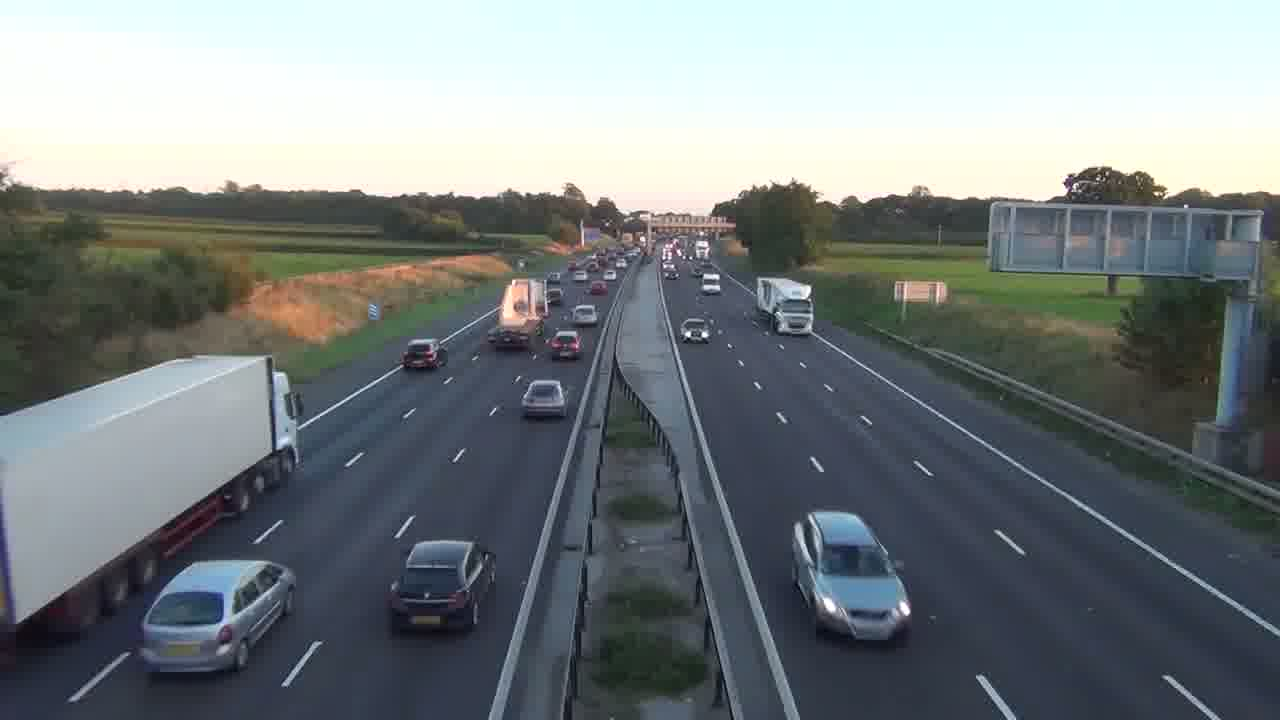car: (139, 558, 297, 676), (791, 508, 912, 644), (385, 538, 498, 635), (521, 379, 567, 421), (402, 339, 439, 371), (549, 330, 581, 361), (680, 316, 712, 343), (571, 303, 598, 326)
truck: (0, 354, 306, 640)
